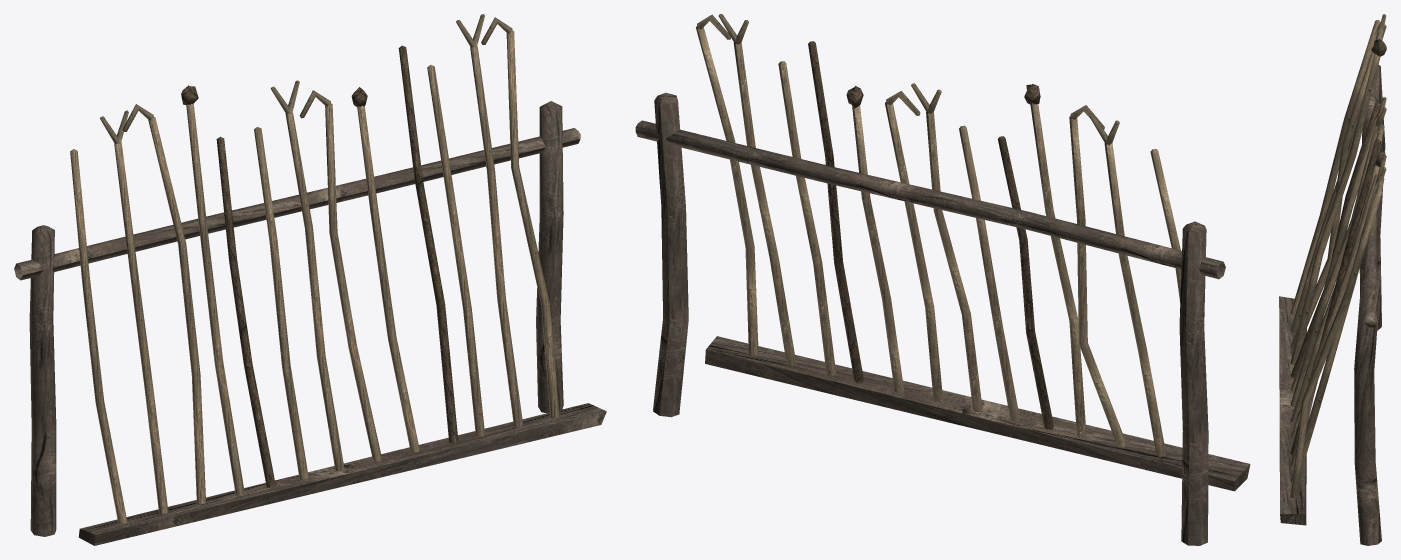
File: cw_staff_rack_full.glb
The picture shows the model from 3 angles, left to right: view 1: azimuth 30°, elevation 25°; view 2: azimuth 150°, elevation 25°; view 3: azimuth 270°, elevation 25°; orthographic projection. The views are drawn at different scales.
Visible parts, largest first — view 1: cw_staff_rack_full; view 2: cw_staff_rack_full; view 3: cw_staff_rack_full.
Boxes of the visible parts, x1,y1,x2,y2 form: cw_staff_rack_full: [14, 14, 606, 545]; cw_staff_rack_full: [635, 14, 1250, 545]; cw_staff_rack_full: [1279, 14, 1386, 545].
Bounding box in the file's own units: 2.22 × 1.53 × 0.4239.
1 material, 1 textured.
